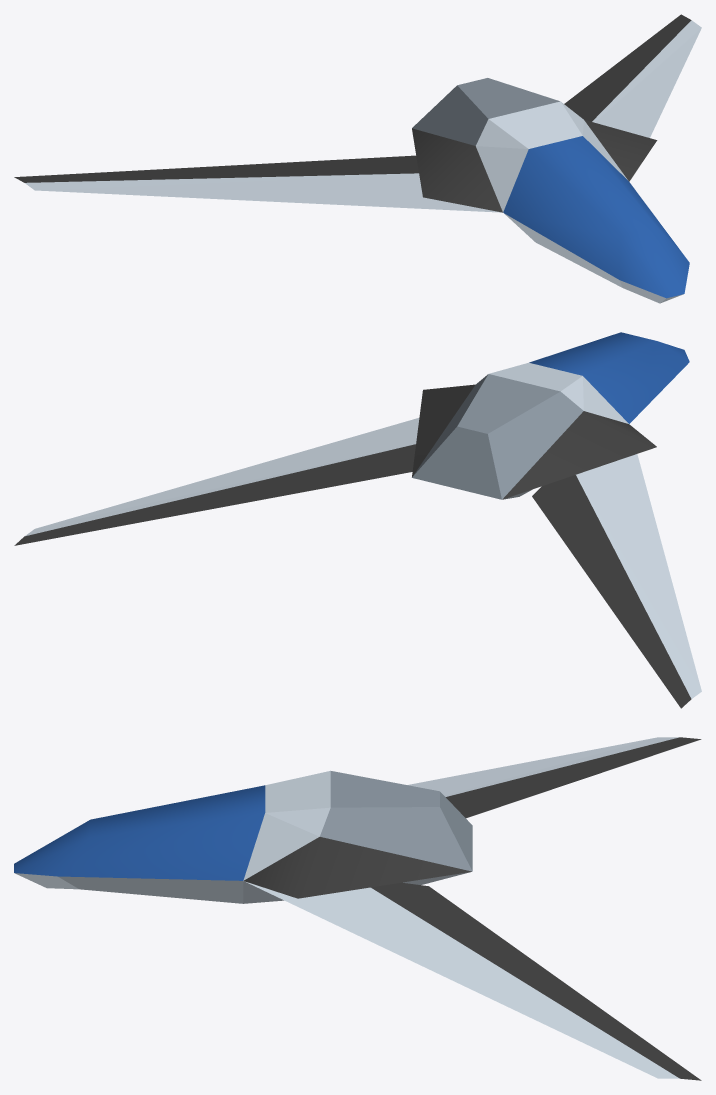
Rendered from Fighter.obj.
The picture shows the model from 3 angles, top to bottom: view 1: azimuth 30°, elevation 25°; view 2: azimuth 150°, elevation 25°; view 3: azimuth 270°, elevation 25°; orthographic projection. The views are drawn at different scales.
Visible parts, largest first — view 1: Fighter; view 2: Fighter; view 3: Fighter.
Part boxes in pixels (x1,y1,x2,y2): Fighter: (14, 14, 701, 303); Fighter: (14, 332, 701, 708); Fighter: (14, 737, 701, 1080).
Bounding box in the file's own units: 2 × 0.3297 × 1.7.
